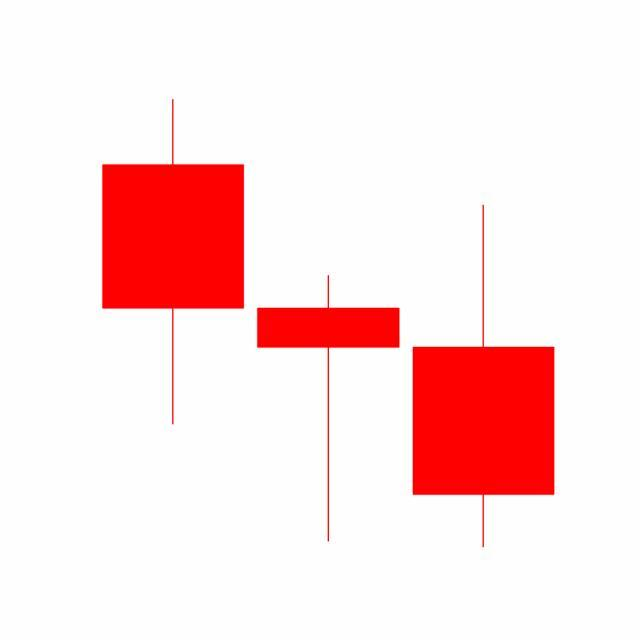Hammer: (250, 272, 407, 545)
